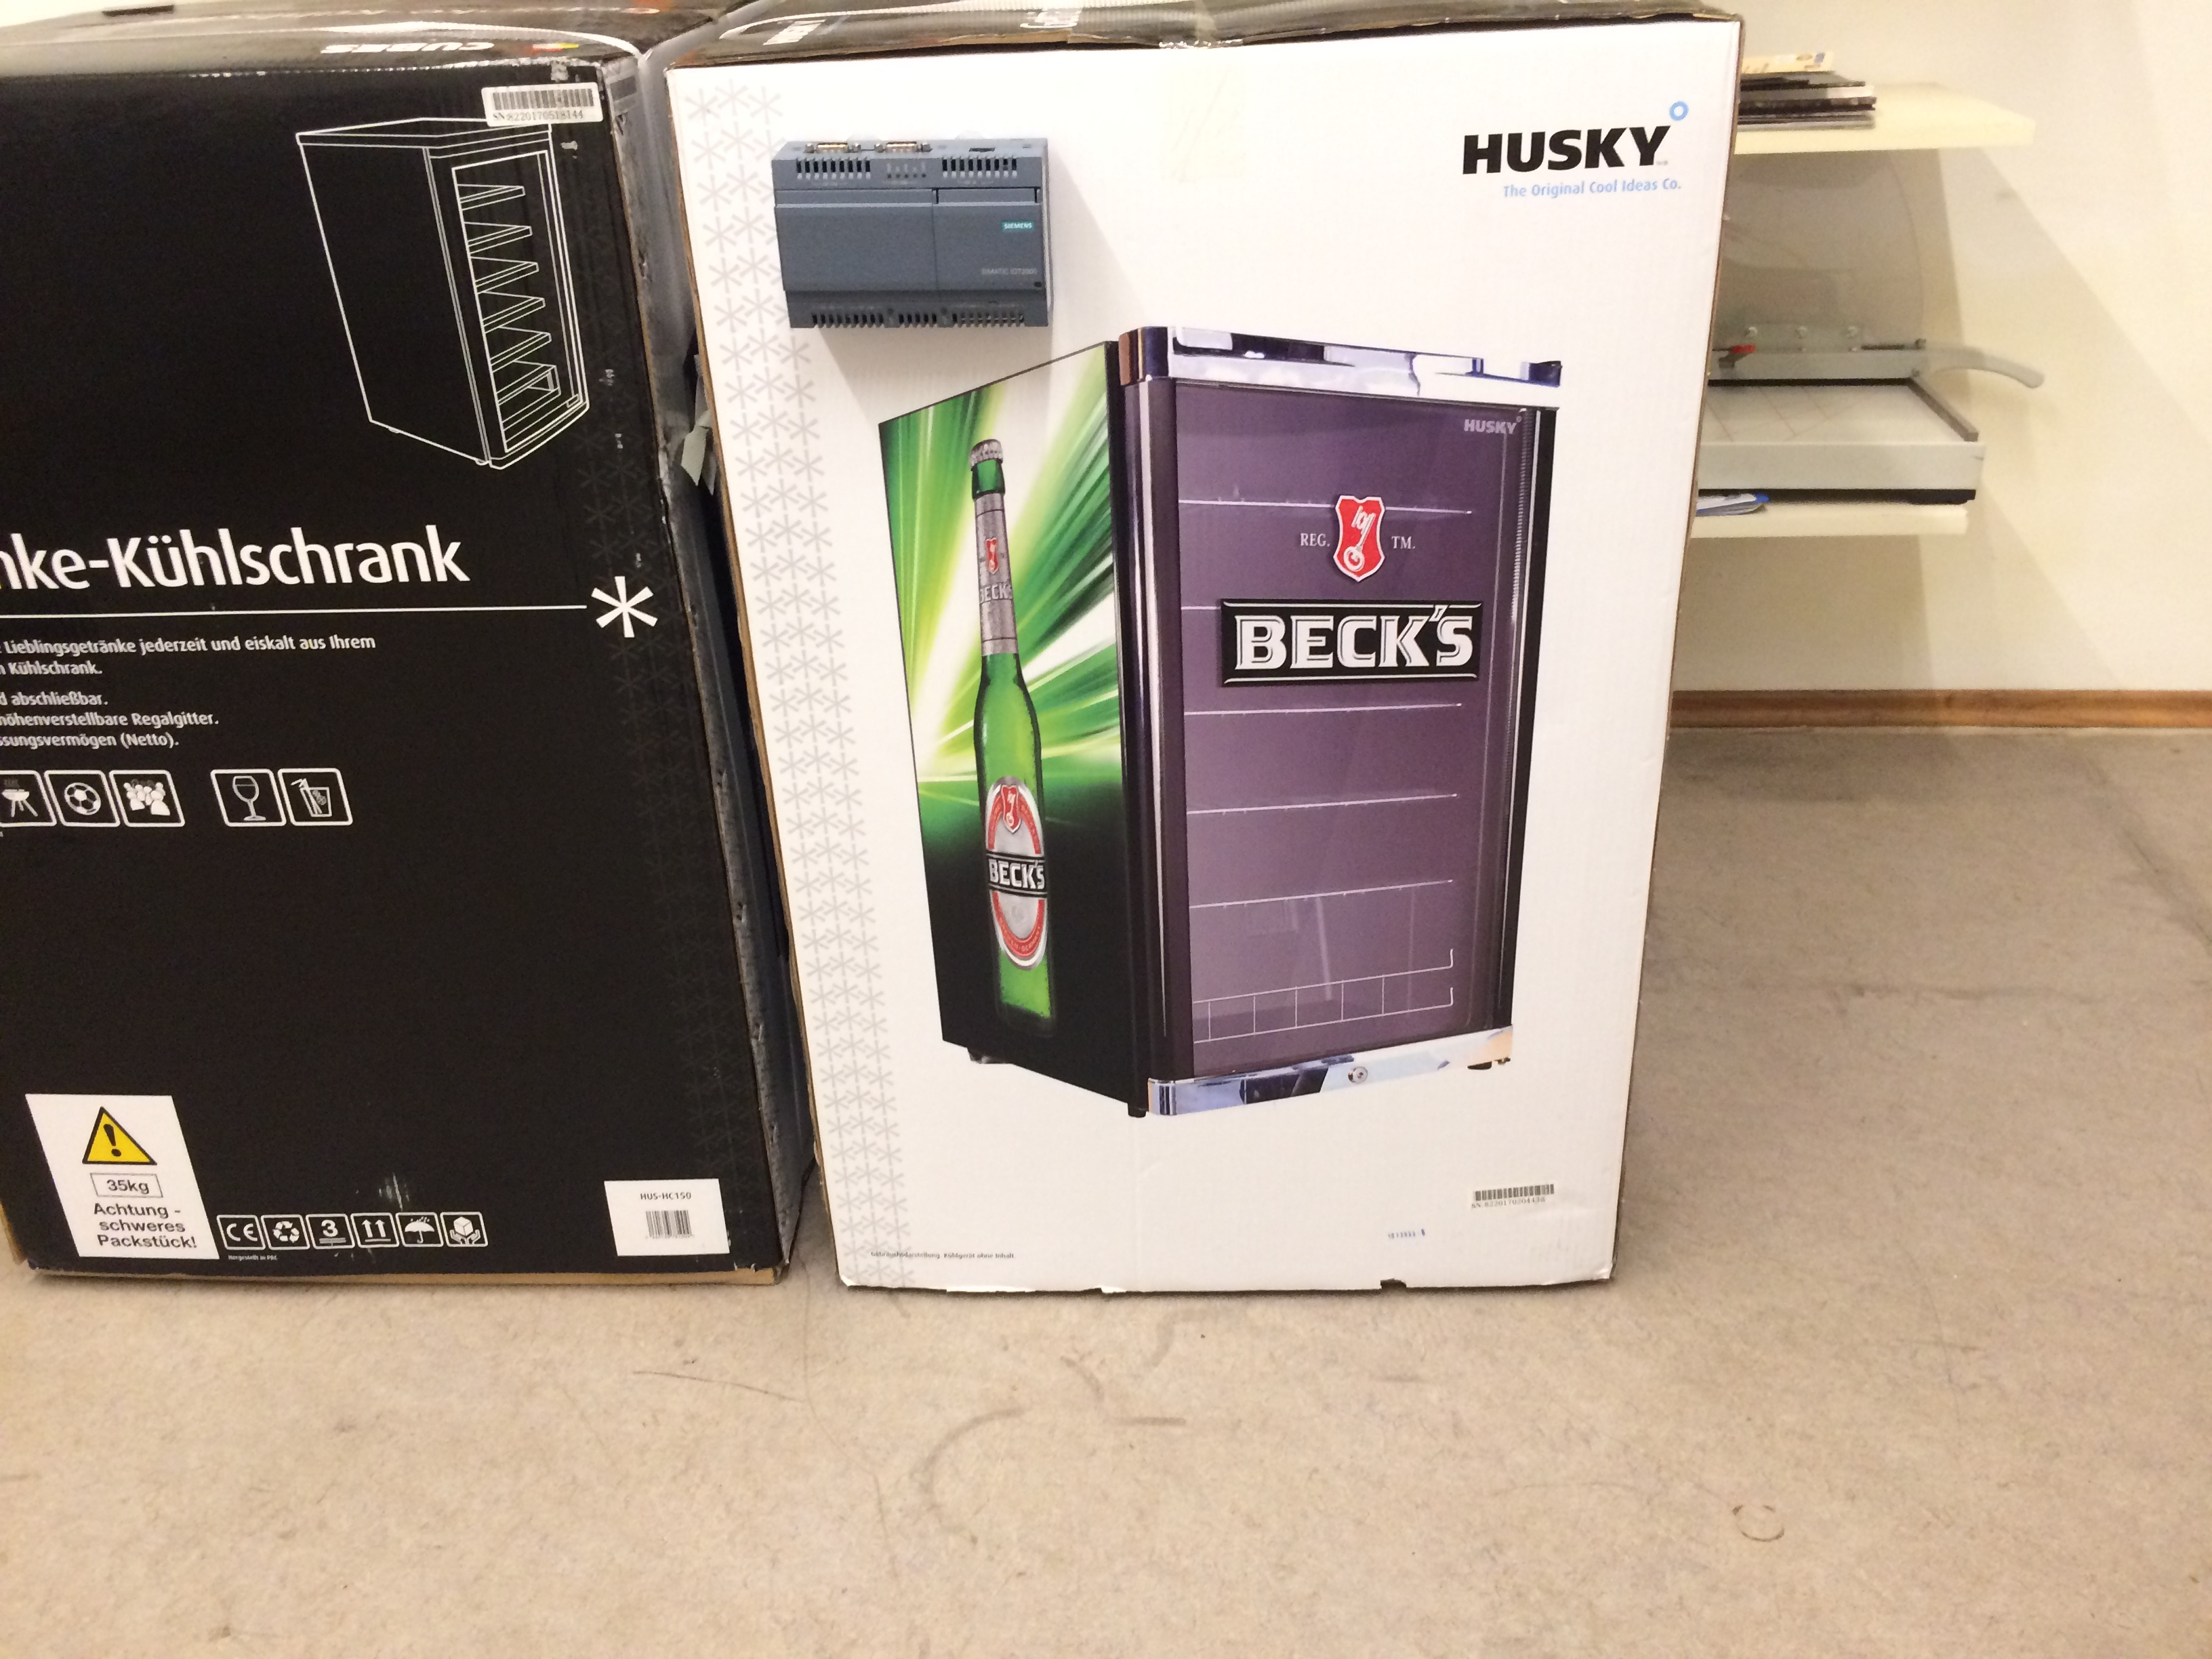iot2000: (770, 134, 1054, 333)
